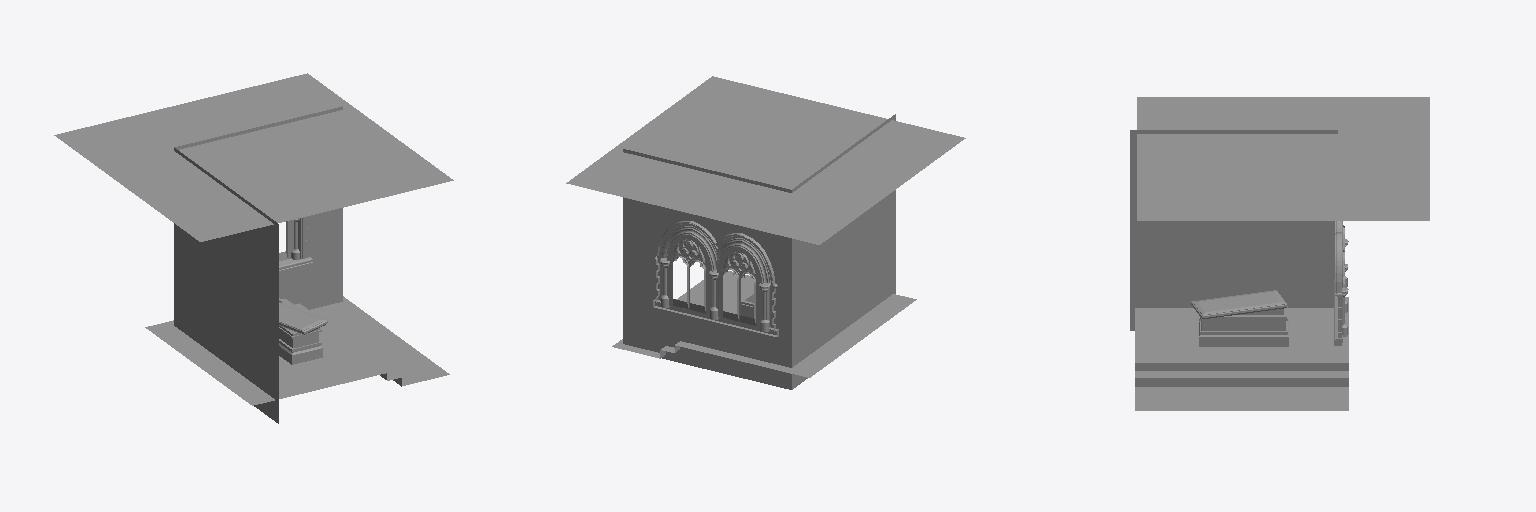
File: crypt.obj
3 renders of one model, left to right at view 1: azimuth 30°, elevation 25°; view 2: azimuth 150°, elevation 25°; view 3: azimuth 270°, elevation 25°, orthographic.
Parts seen in each view (by area): view 1: Ceiling_Plane.004, Walls_Plane.002, Floor_Plane, Coffin_Cube.001, Windows, Coffin.Lid_Cube.010; view 2: Ceiling_Plane.004, Walls_Plane.002, Windows, Floor_Plane, Window_Columns_Cylinder; view 3: Ceiling_Plane.004, Walls_Plane.002, Floor_Plane, Coffin_Cube.001, Coffin.Lid_Cube.010, Windows.
Boxes of the visible parts, x1=… form: Ceiling_Plane.004: x1=54, y1=73, x2=453, y2=241; Walls_Plane.002: x1=174, y1=106, x2=342, y2=423; Floor_Plane: x1=145, y1=296, x2=449, y2=405; Coffin_Cube.001: x1=279, y1=298, x2=322, y2=364; Windows: x1=279, y1=216, x2=312, y2=272; Coffin.Lid_Cube.010: x1=279, y1=302, x2=327, y2=334; Ceiling_Plane.004: x1=566, y1=76, x2=965, y2=244; Walls_Plane.002: x1=623, y1=114, x2=895, y2=389; Windows: x1=653, y1=221, x2=778, y2=336; Floor_Plane: x1=612, y1=271, x2=916, y2=377; Window_Columns_Cylinder: x1=660, y1=258, x2=770, y2=331; Ceiling_Plane.004: x1=1137, y1=97, x2=1429, y2=220; Walls_Plane.002: x1=1130, y1=130, x2=1337, y2=330; Floor_Plane: x1=1135, y1=297, x2=1348, y2=410; Coffin_Cube.001: x1=1199, y1=307, x2=1288, y2=346; Coffin.Lid_Cube.010: x1=1191, y1=290, x2=1287, y2=318; Windows: x1=1334, y1=221, x2=1344, y2=345.
Bounding box in the file's own units: 16.54 × 12.49 × 16.99.